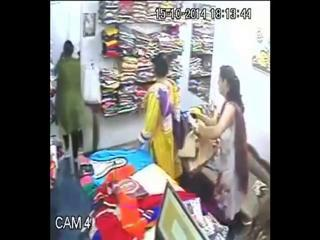Normal: (185, 64, 249, 225), (138, 54, 184, 182), (54, 39, 99, 158)
